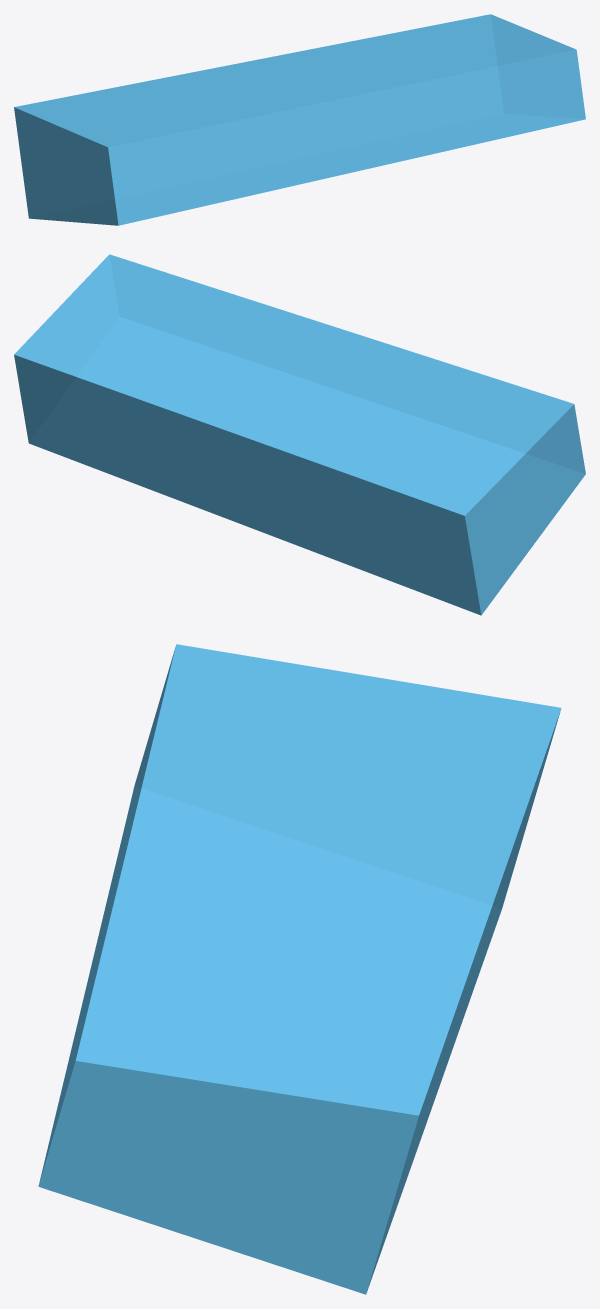
The model's file is Event_421115418_HErechit_103.fbx.
3 renders of one model, top to bottom at view 1: azimuth 30°, elevation 25°; view 2: azimuth 150°, elevation 25°; view 3: azimuth 270°, elevation 25°, orthographic. The views are drawn at different scales.
Parts seen in each view (by area): view 1: Model; view 2: Model; view 3: Model.
Boxes of the visible parts, x1,y1,x2,y2 form: Model: (14,14,585,225); Model: (14,254,585,615); Model: (38,644,561,1294).
Size of the model in its own units: 1.37 by 0.4124 by 0.7012.
